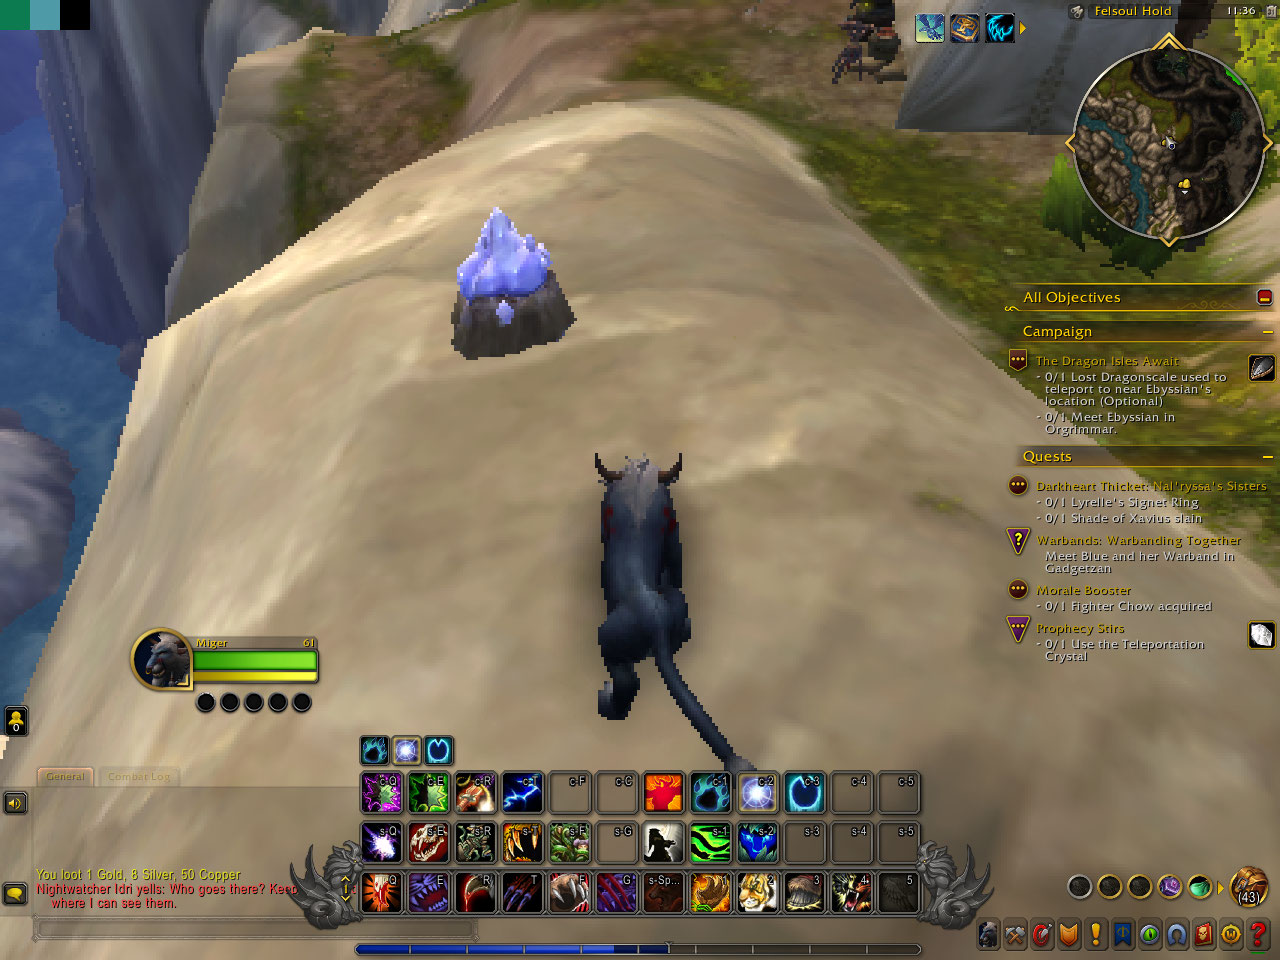ore: (450, 208, 574, 364)
